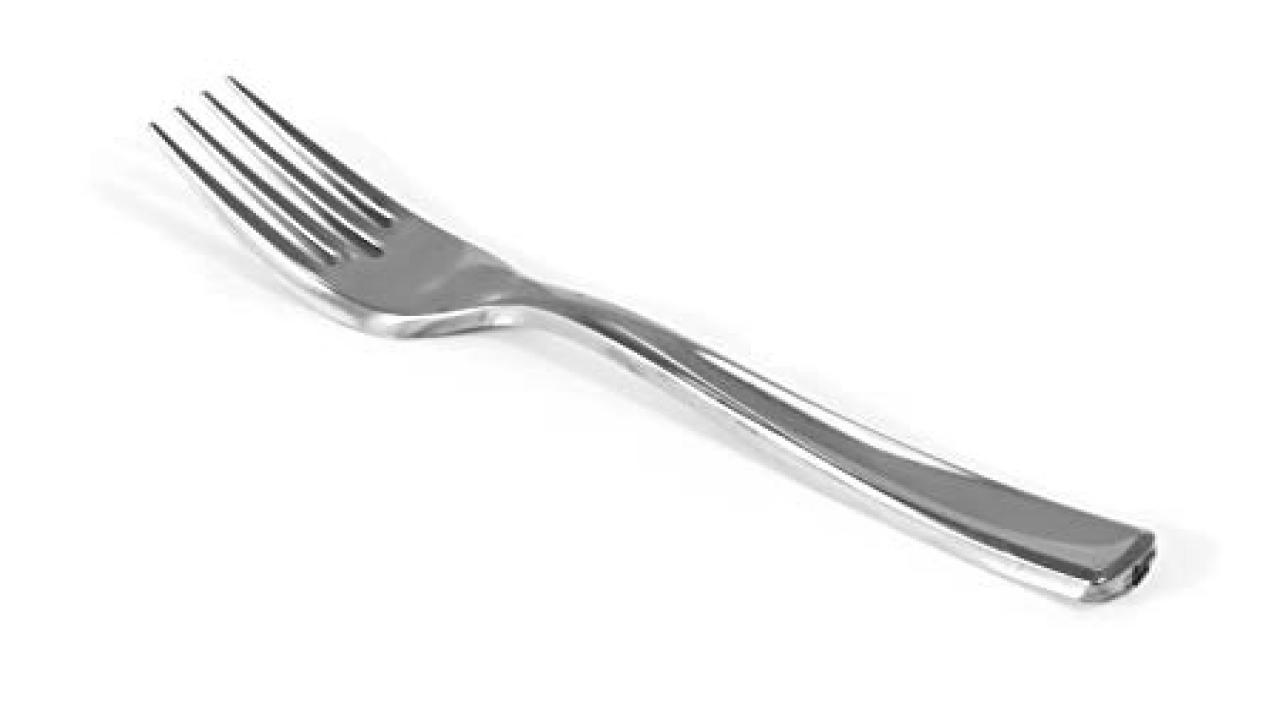fork: (145, 71, 1158, 602)
